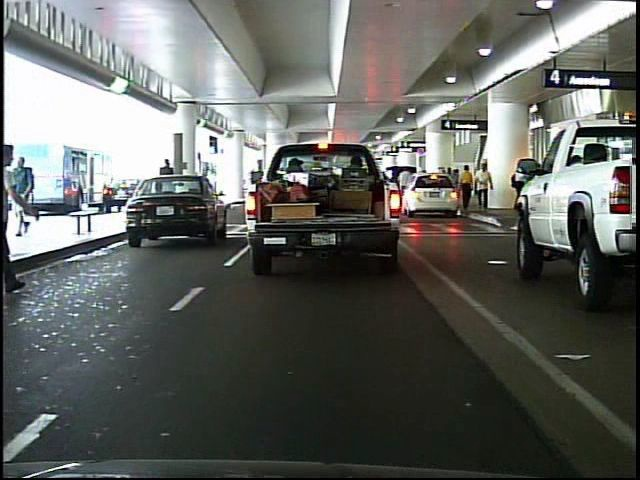person: (8, 154, 39, 238), (155, 154, 181, 220), (453, 160, 474, 220), (475, 156, 495, 214)
